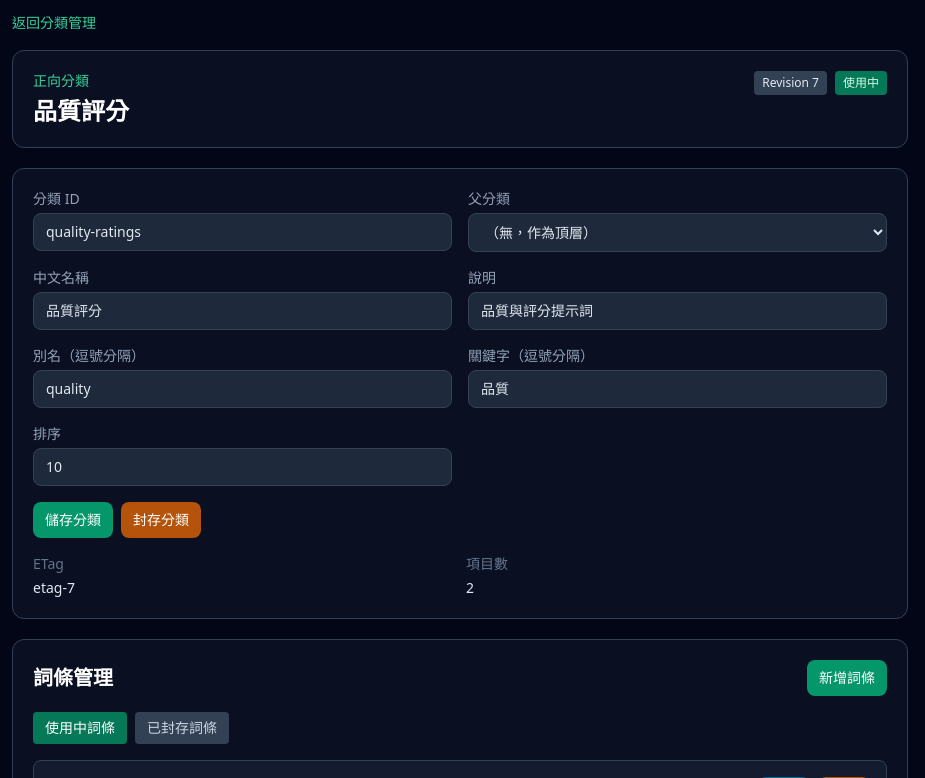
Scenario: PromptCategoryDetail › preserves category draft and displays an actionable mutation error
Replace the text in the field named "分類中文名稱" with "尚未儲存名稱" at (242, 311), box 33,292 -> 452,330
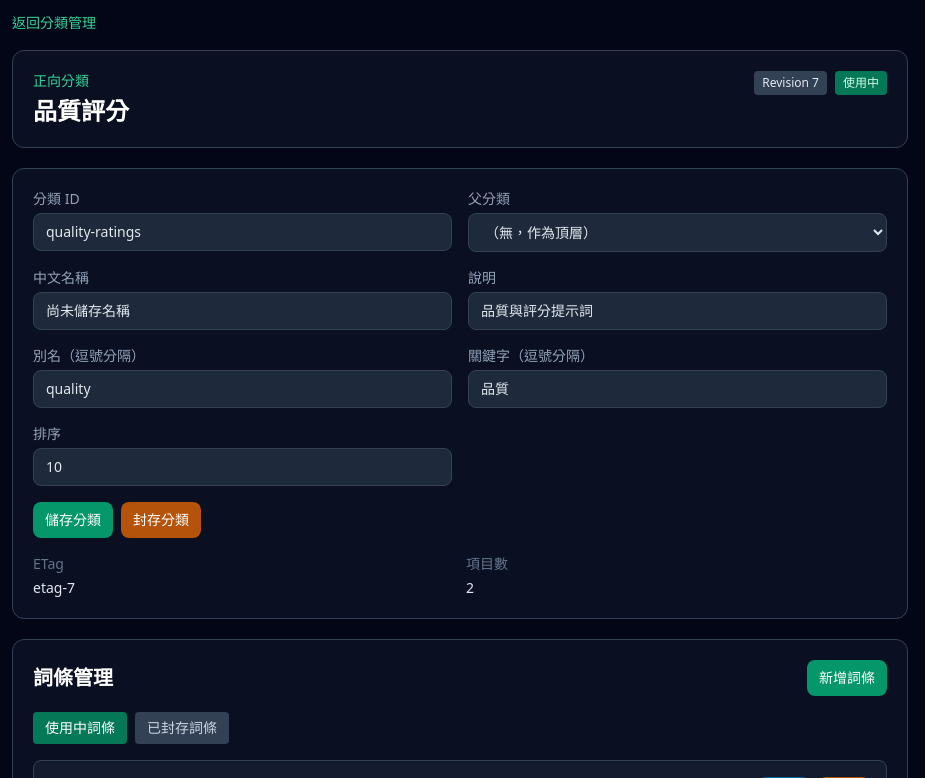
Click the button "儲存分類" at (73, 520), box 33,502 -> 113,538
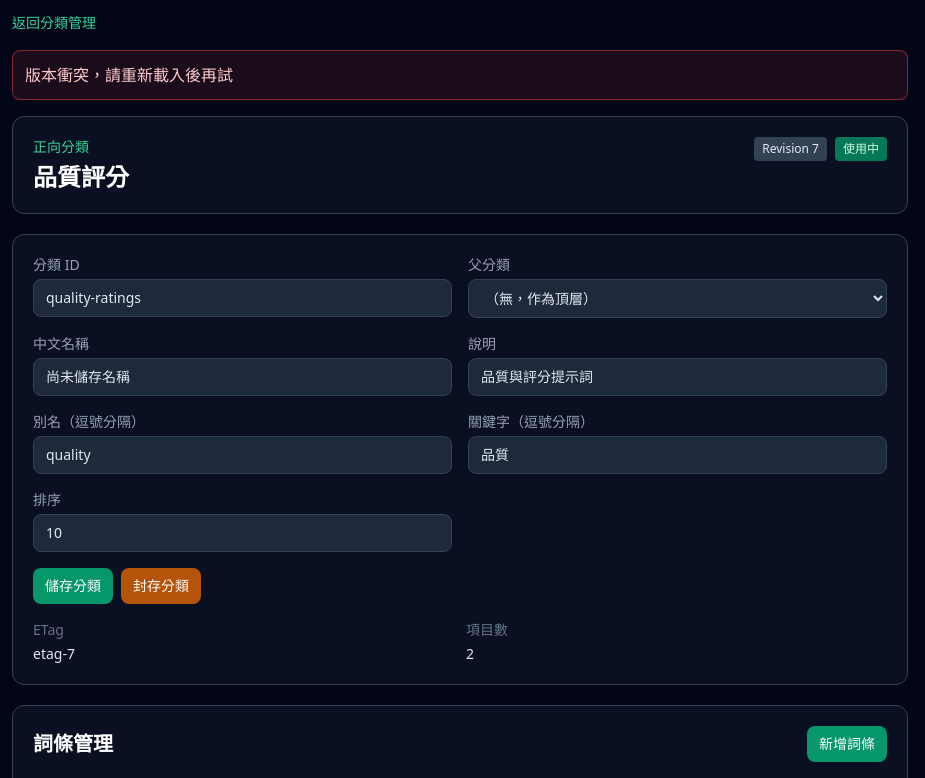
Expected: the message shows "版本衝突", 25,64 -> 233,86
